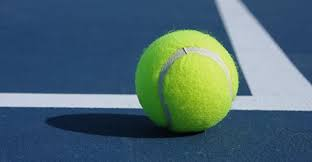tennis_ball: (133, 29, 239, 135)
